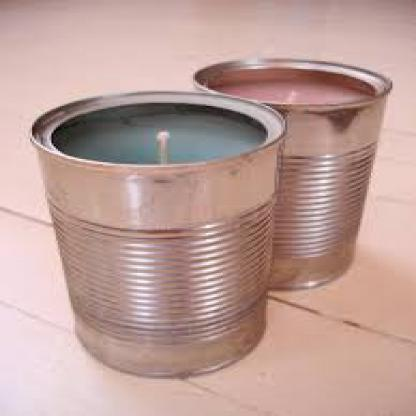METAL: (28, 90, 283, 377), (191, 56, 390, 291)
